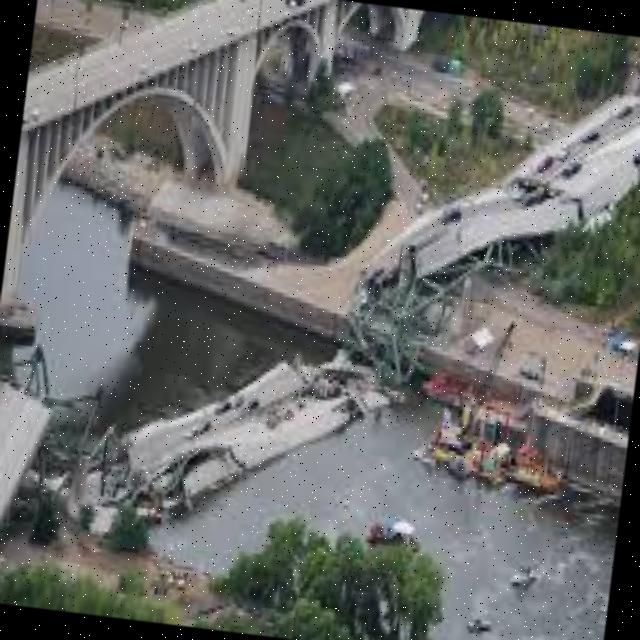bridge collapse: (0, 104, 640, 617)
